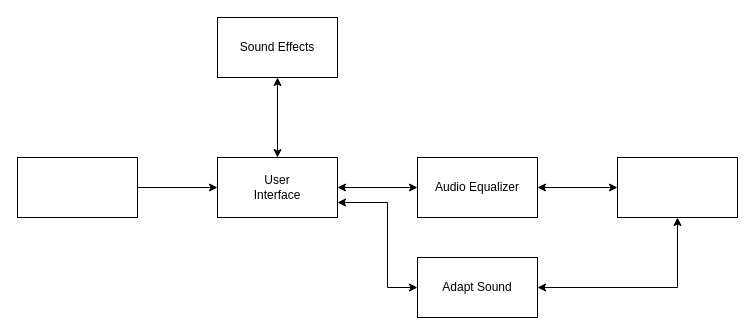
Some shapes in this 755 by 335 pixel diagram are drawn without their labels. Here are the shapes that lost their labels. From the top down, the centre of each, then its label:
the point at 77,187: Audio Loader
the point at 677,187: Filter Control
